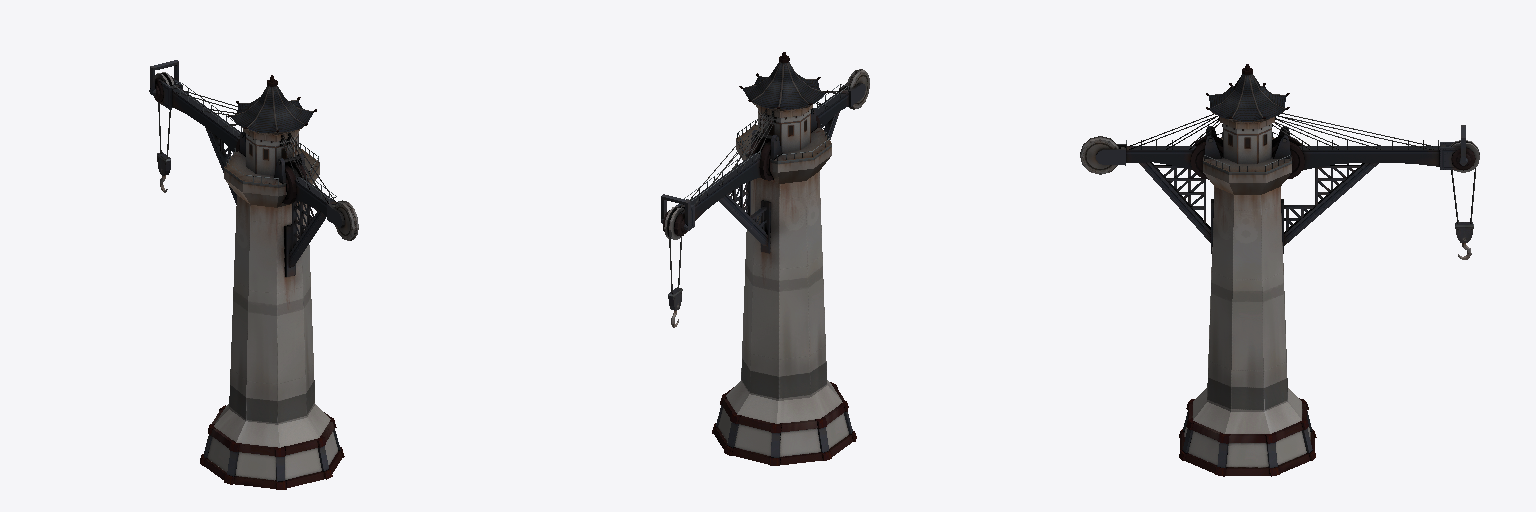
The picture shows the model from 3 angles: view 1: azimuth 30°, elevation 25°; view 2: azimuth 150°, elevation 25°; view 3: azimuth 270°, elevation 25°; orthographic projection.
Parts seen in each view (by area): view 1: Build01_Sm; view 2: Build01_Sm; view 3: Build01_Sm.
Boxes of the visible parts, x1,y1,x2,y2 form: Build01_Sm: [149, 60, 358, 489]; Build01_Sm: [661, 52, 869, 465]; Build01_Sm: [1080, 64, 1479, 476].
Size of the model in its own units: 995 by 3055 by 2889.
1 materials, 1 textured.